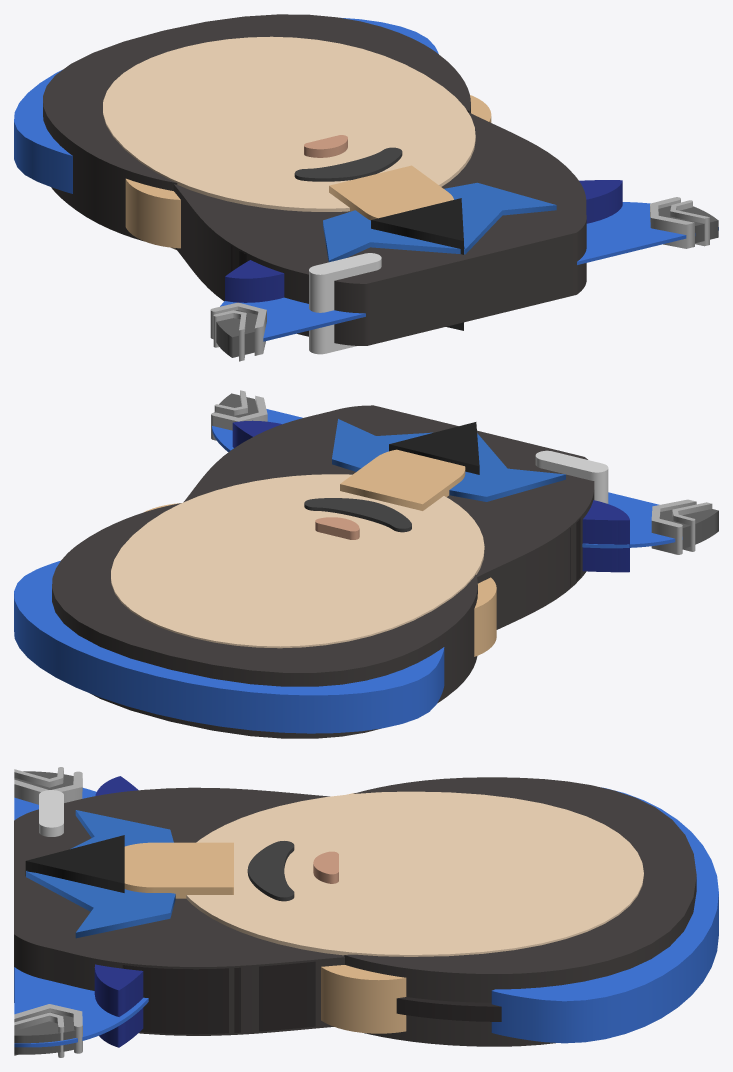
The model's file is emoji_u1f46e_1f3fb_200d_2640.glb.
3 views of the same model, one above another, from view 1: azimuth 30°, elevation 25°; view 2: azimuth 150°, elevation 25°; view 3: azimuth 270°, elevation 25° (orthographic). The views are drawn at different scales.
Parts seen in each view (by area): view 1: emoji_u1f46e_1f3fb_200d_2640; view 2: emoji_u1f46e_1f3fb_200d_2640; view 3: emoji_u1f46e_1f3fb_200d_2640.
Part boxes in pixels (left/top/right/bottom): emoji_u1f46e_1f3fb_200d_2640: left=14, top=14, right=718, bottom=361; emoji_u1f46e_1f3fb_200d_2640: left=14, top=390, right=718, bottom=738; emoji_u1f46e_1f3fb_200d_2640: left=14, top=767, right=718, bottom=1057.
Size of the model in its own units: 0.0295 by 0.0052 by 0.0334.
